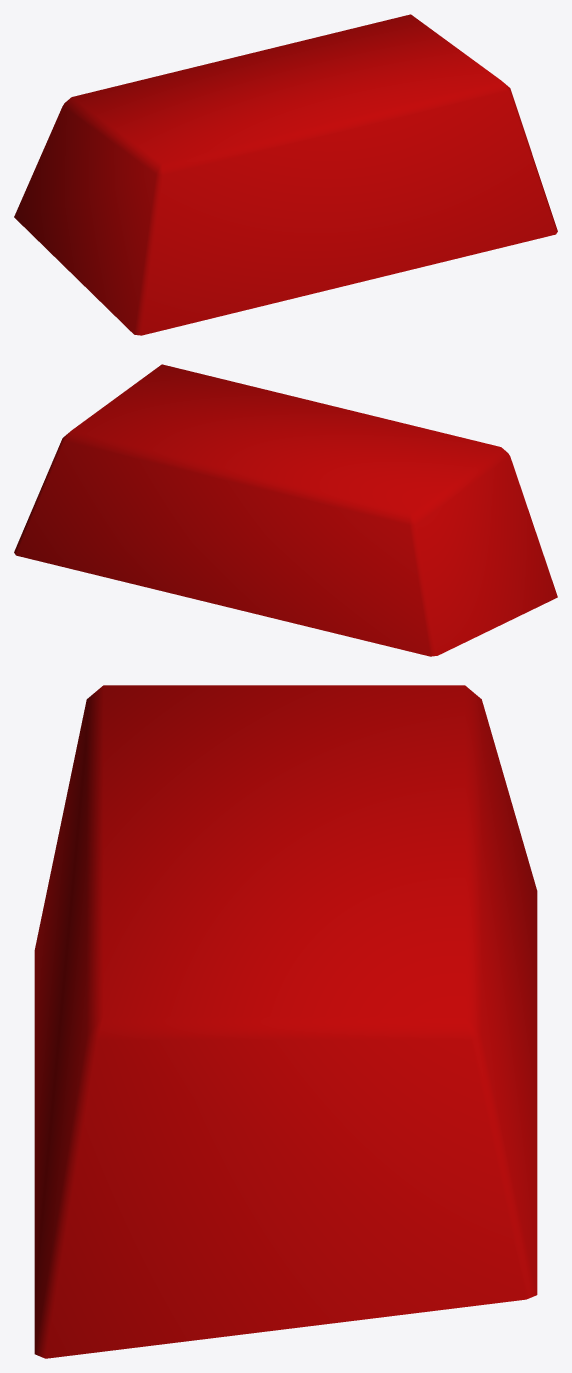
The picture shows the model from 3 angles, top to bottom: view 1: azimuth 30°, elevation 25°; view 2: azimuth 150°, elevation 25°; view 3: azimuth 270°, elevation 25°; orthographic projection. The views are drawn at different scales.
Parts seen in each view (by area): view 1: Empty_Mesh; view 2: Empty_Mesh; view 3: Empty_Mesh.
Part boxes in pixels (x1,y1,x2,y2): Empty_Mesh: (14,14,557,335); Empty_Mesh: (14,364,557,656); Empty_Mesh: (34,685,537,1358).
Bounding box in the file's own units: 3.62 × 1.23 × 1.86.
